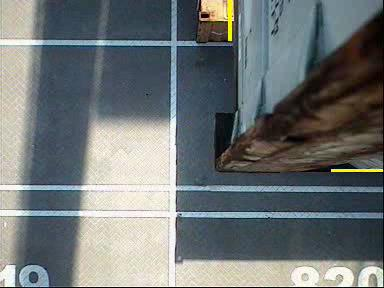groundmarker_2: (74, 60, 140, 103)
